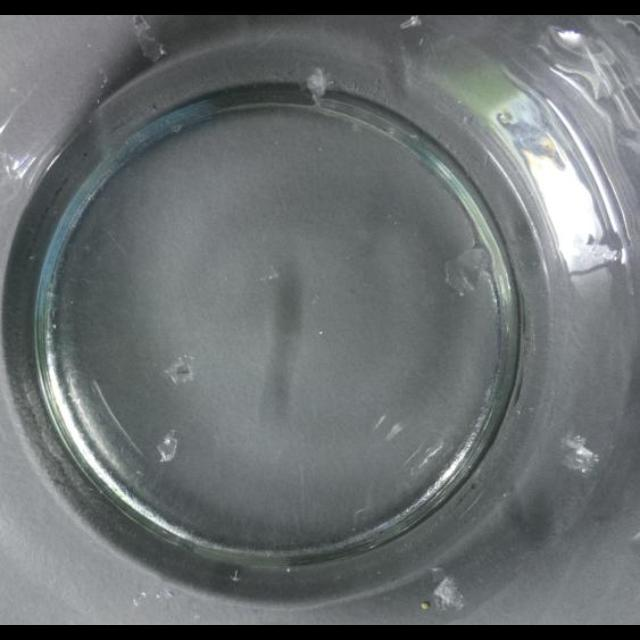Fibre: (22, 388, 74, 468), (560, 434, 602, 474), (132, 16, 166, 62), (433, 576, 467, 614), (162, 354, 198, 388), (156, 432, 178, 464), (306, 68, 328, 99), (401, 16, 422, 30)
